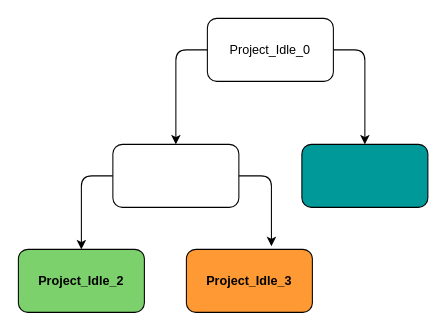
The diagram is 446 pixels wide and 331 high, and some of its shapes have lost their labels. The shapes that lost their labels are listed below. From the top down, each one's centre as x and y in pixels, then its label:
point (175, 175): Project_Playing_0
point (364, 175): Project_Idle_1
